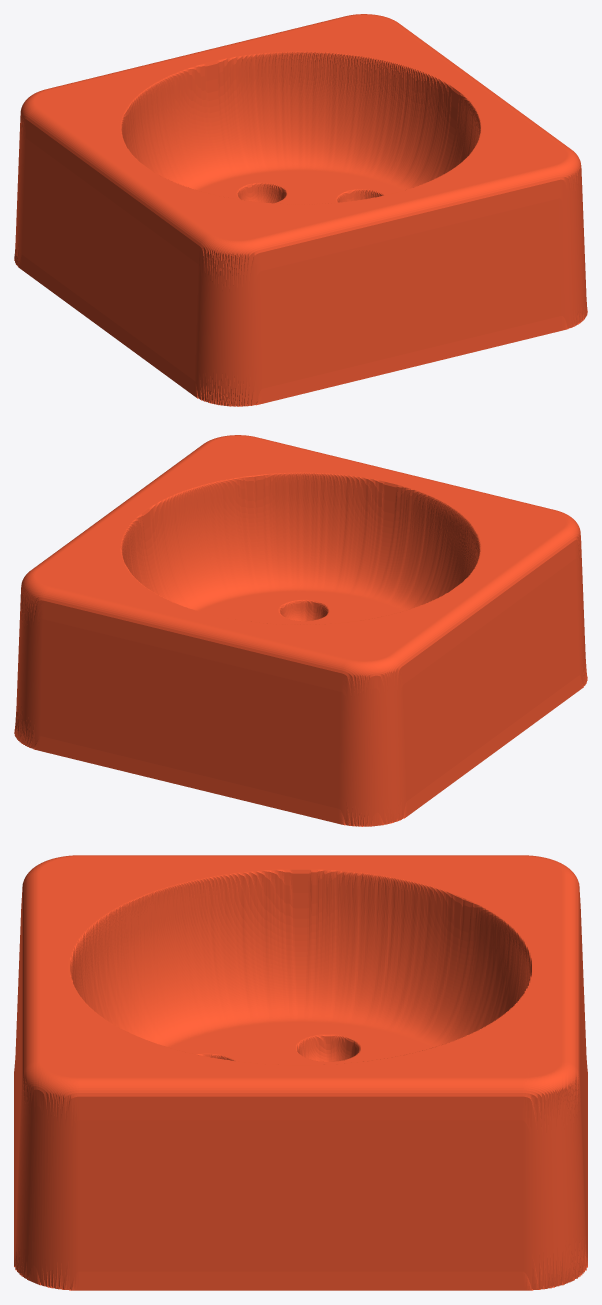
Rendered from mold.glb.
3 views of the same model, one above another, from view 1: azimuth 30°, elevation 25°; view 2: azimuth 150°, elevation 25°; view 3: azimuth 270°, elevation 25° (orthographic). The views are drawn at different scales.
Visible parts, largest first — view 1: geometry_0; view 2: geometry_0; view 3: geometry_0.
Part boxes in pixels (bbox=[...]): geometry_0: bbox=[14, 14, 587, 406]; geometry_0: bbox=[14, 435, 587, 826]; geometry_0: bbox=[14, 855, 587, 1290].
Size of the model in its own units: 0.0798 by 0.031 by 0.0798.
